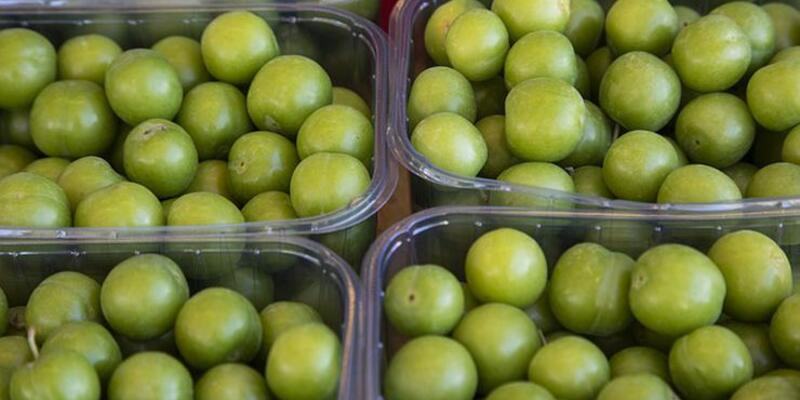Plum: (631, 243, 721, 335), (96, 256, 188, 339), (502, 77, 584, 162), (598, 48, 679, 134), (461, 231, 548, 302), (119, 118, 203, 186)
